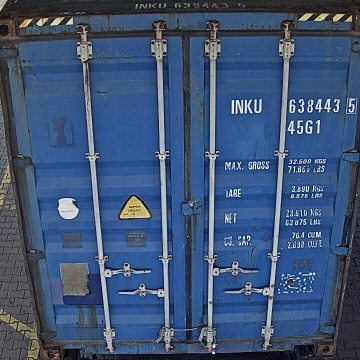serial_id: (231, 97, 357, 113)
